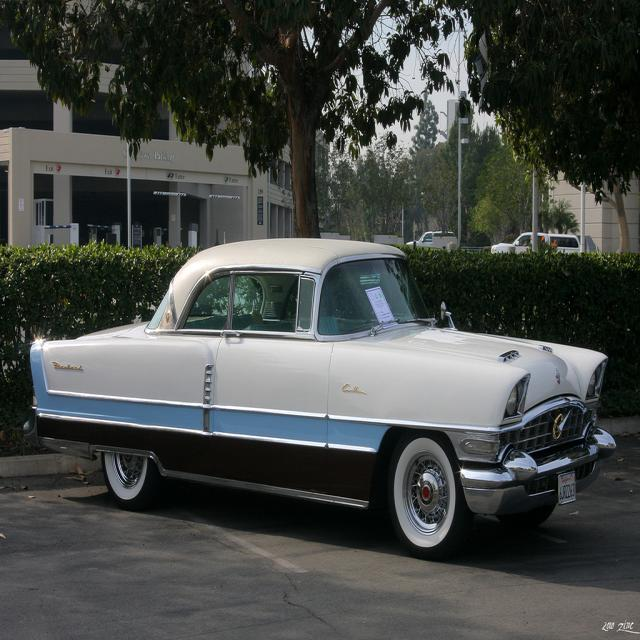car: (23, 223, 615, 594)
